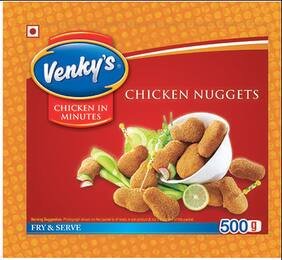nonveg_red: (26, 24, 40, 39)
